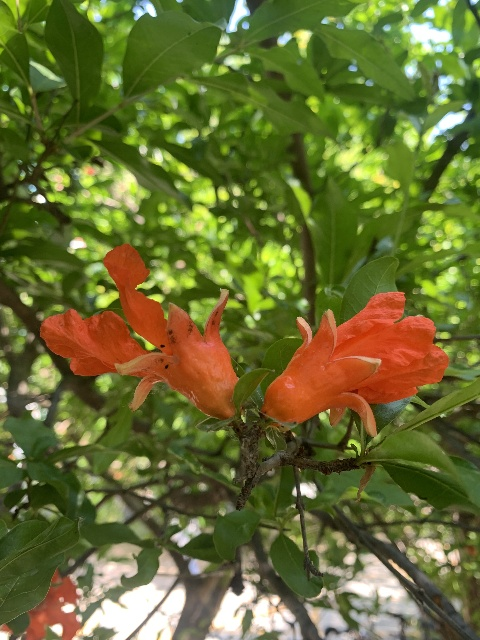flower: (39, 243, 240, 419), (265, 290, 447, 437), (18, 567, 81, 639)
